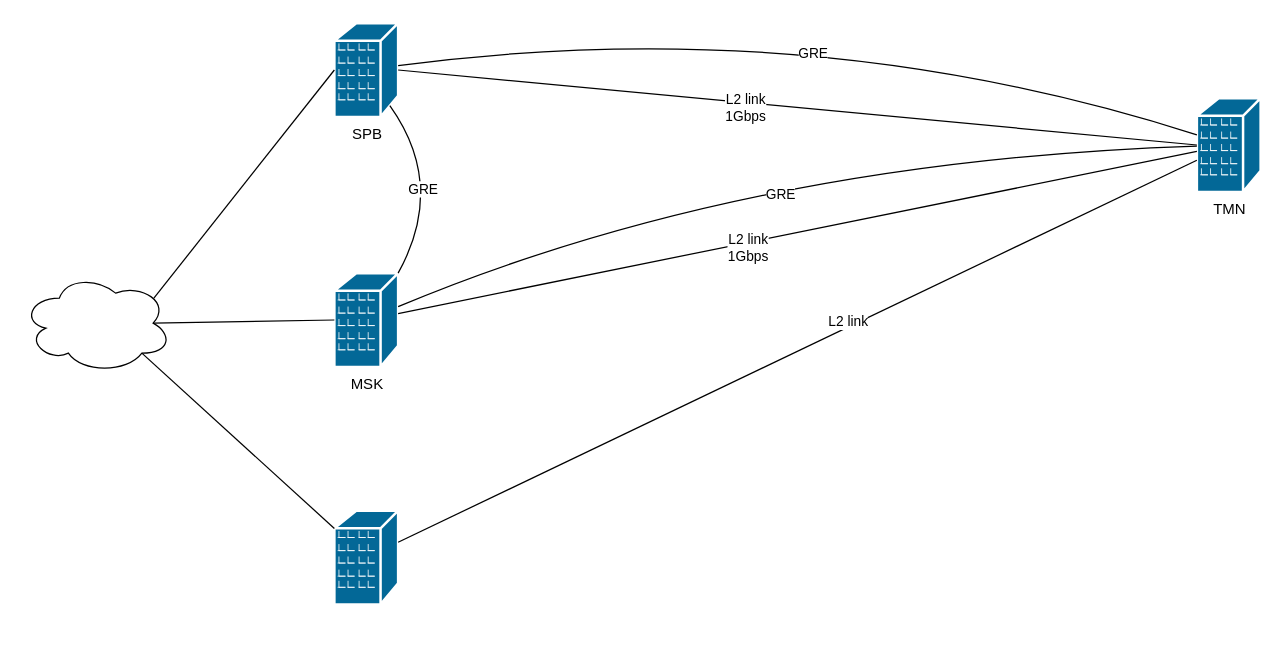
This 1284x651 diagram has some shape labels left out. Here are the shapes that lost their labels. From the top down, the box of each, then its label:
(21, 272, 172, 373): Internet
(332, 509, 399, 605): KHAB
